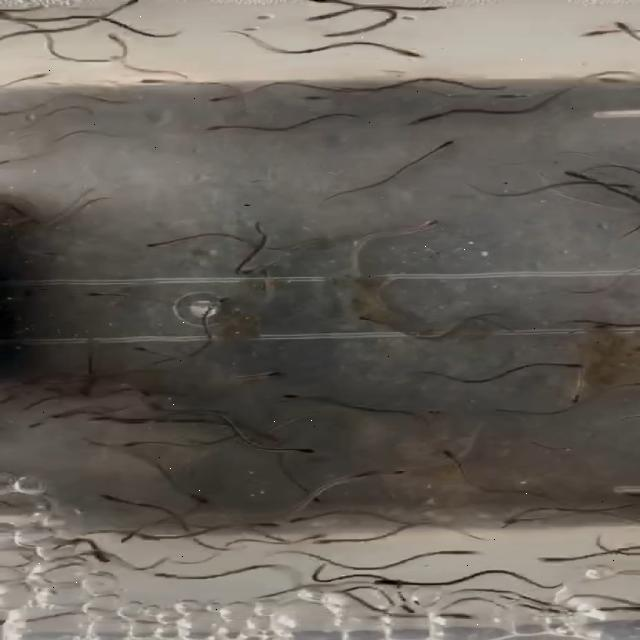active_glass_eel: (144, 222, 188, 254), (412, 130, 468, 154), (100, 0, 152, 20), (195, 118, 236, 142), (558, 382, 604, 402), (397, 218, 448, 236), (446, 71, 486, 92), (262, 238, 300, 260), (285, 442, 333, 459), (382, 46, 436, 61), (398, 410, 438, 430), (552, 357, 592, 377), (86, 550, 130, 568), (300, 9, 332, 33), (178, 490, 216, 510), (276, 388, 322, 404), (372, 574, 418, 590), (234, 235, 267, 257), (533, 550, 577, 566), (194, 90, 244, 104), (31, 194, 69, 212), (112, 534, 150, 552), (78, 291, 112, 311), (112, 436, 154, 452), (585, 322, 640, 334), (602, 16, 638, 34), (248, 367, 280, 387), (486, 516, 526, 532), (438, 542, 478, 558), (585, 178, 627, 193), (593, 71, 637, 85), (88, 116, 116, 138), (288, 513, 322, 531), (132, 78, 170, 94), (300, 490, 338, 506), (435, 442, 473, 458), (300, 537, 338, 553), (563, 288, 613, 300), (110, 343, 146, 359), (556, 166, 592, 182), (576, 28, 607, 46), (102, 28, 136, 44), (349, 312, 381, 329), (102, 488, 126, 510), (147, 567, 175, 583), (388, 468, 416, 482), (256, 516, 276, 530)
